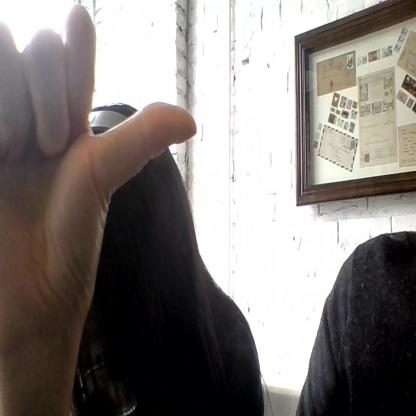left: (0, 2, 197, 315)
